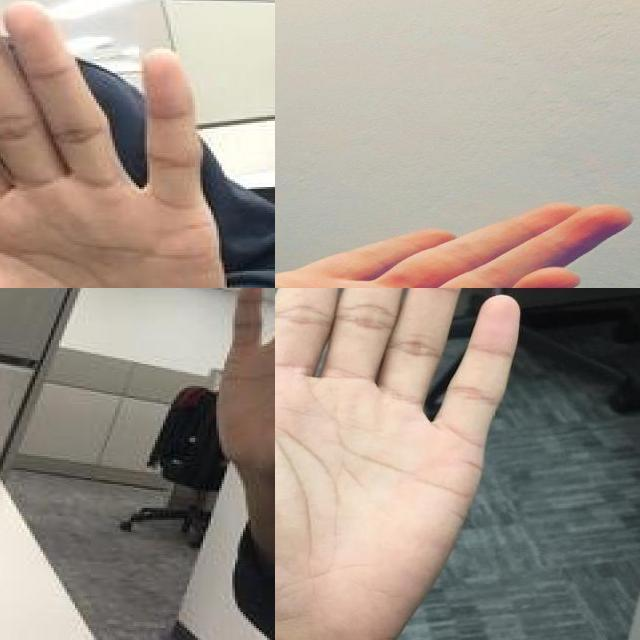no-gloves: (275, 288, 522, 640), (0, 0, 230, 288), (275, 203, 636, 288), (216, 288, 275, 472)
